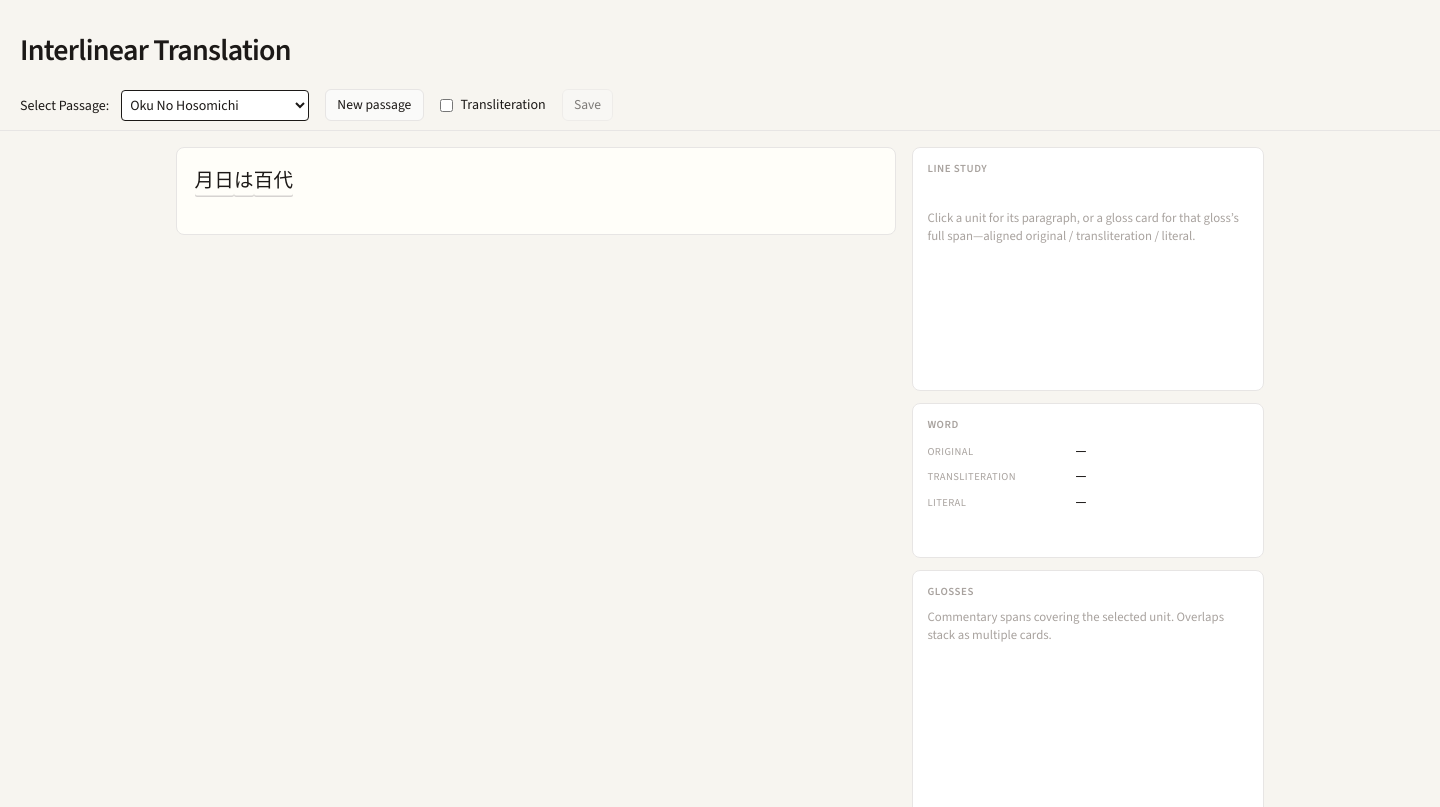
it: App component › disables Save until dirty, then writes the passage
This screenshot has width=1440, height=807.
expect the button "月日" is shown: met, box [195,164,234,197]
expect the button "Save" is disabled: met, box [562,89,613,121]
Click the button "百代" at (273, 181), box [254,164,293,197]
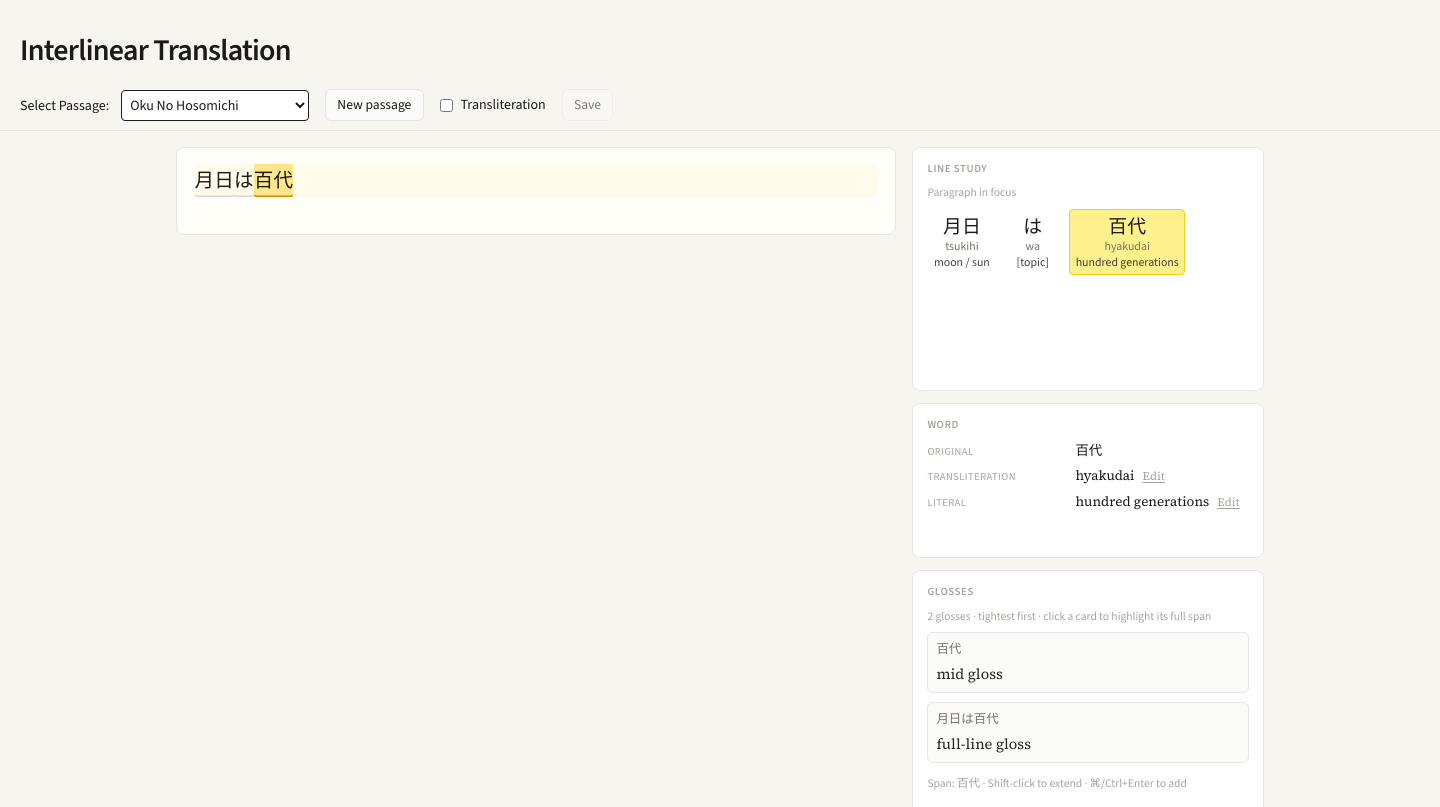
Click the text "mid gloss" at (970, 674), box [936,664,1003,684]
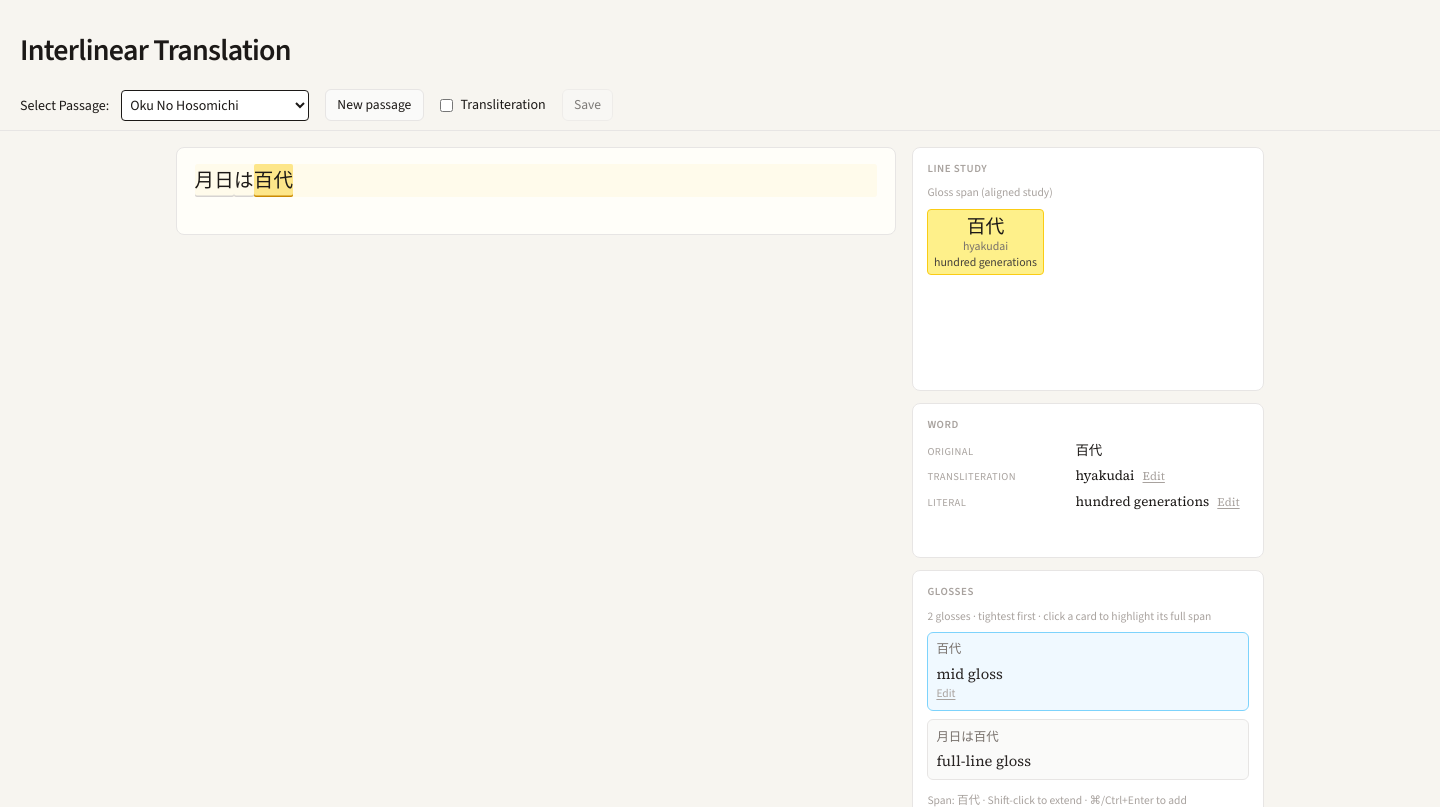
Click the button with class "field-edit-btn" below "mid gloss" at (946, 694), box [936,685,956,702]
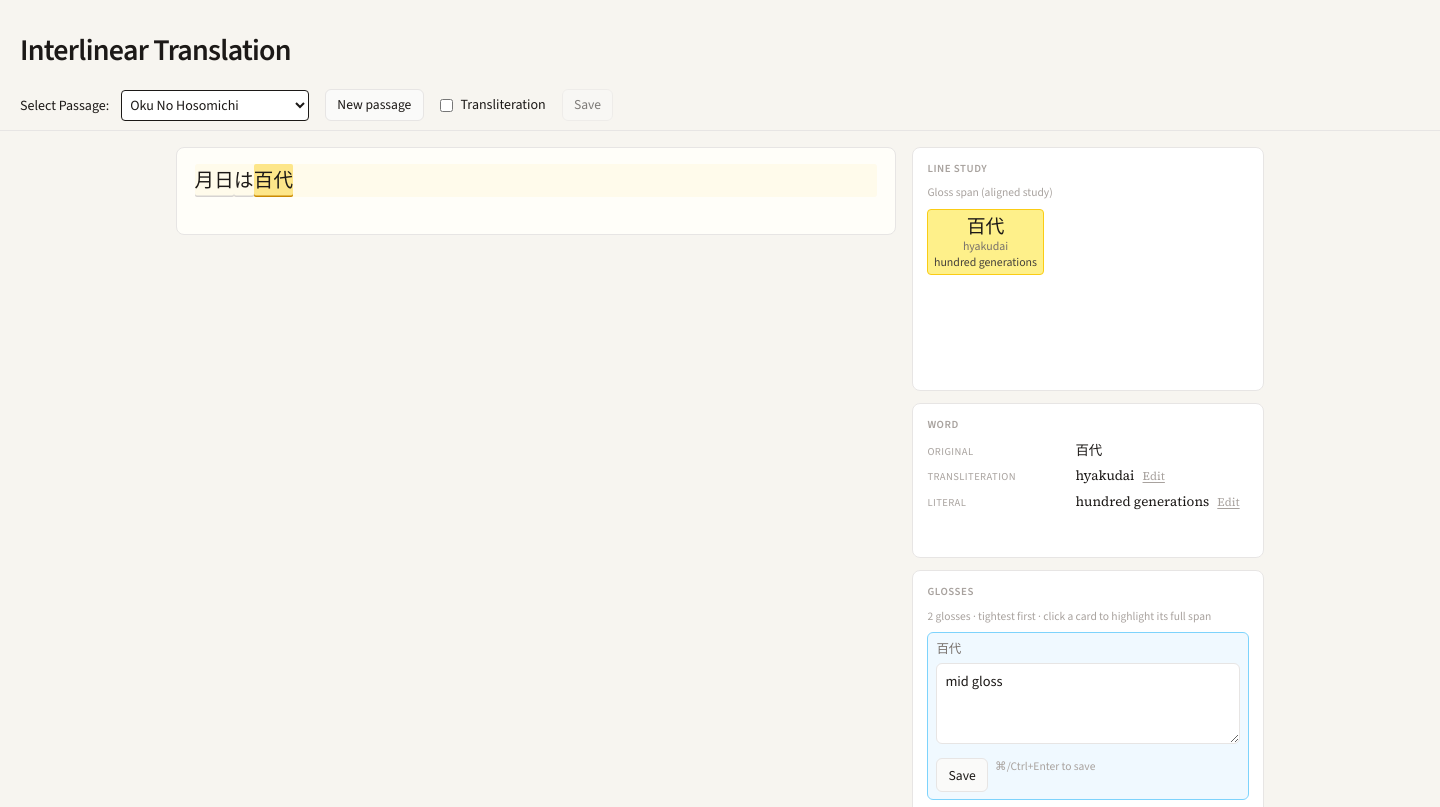
Replace the text in the text box named "Edit gloss commentary" with "persisted mid gloss" at (1088, 704), box [936,663,1240,744]
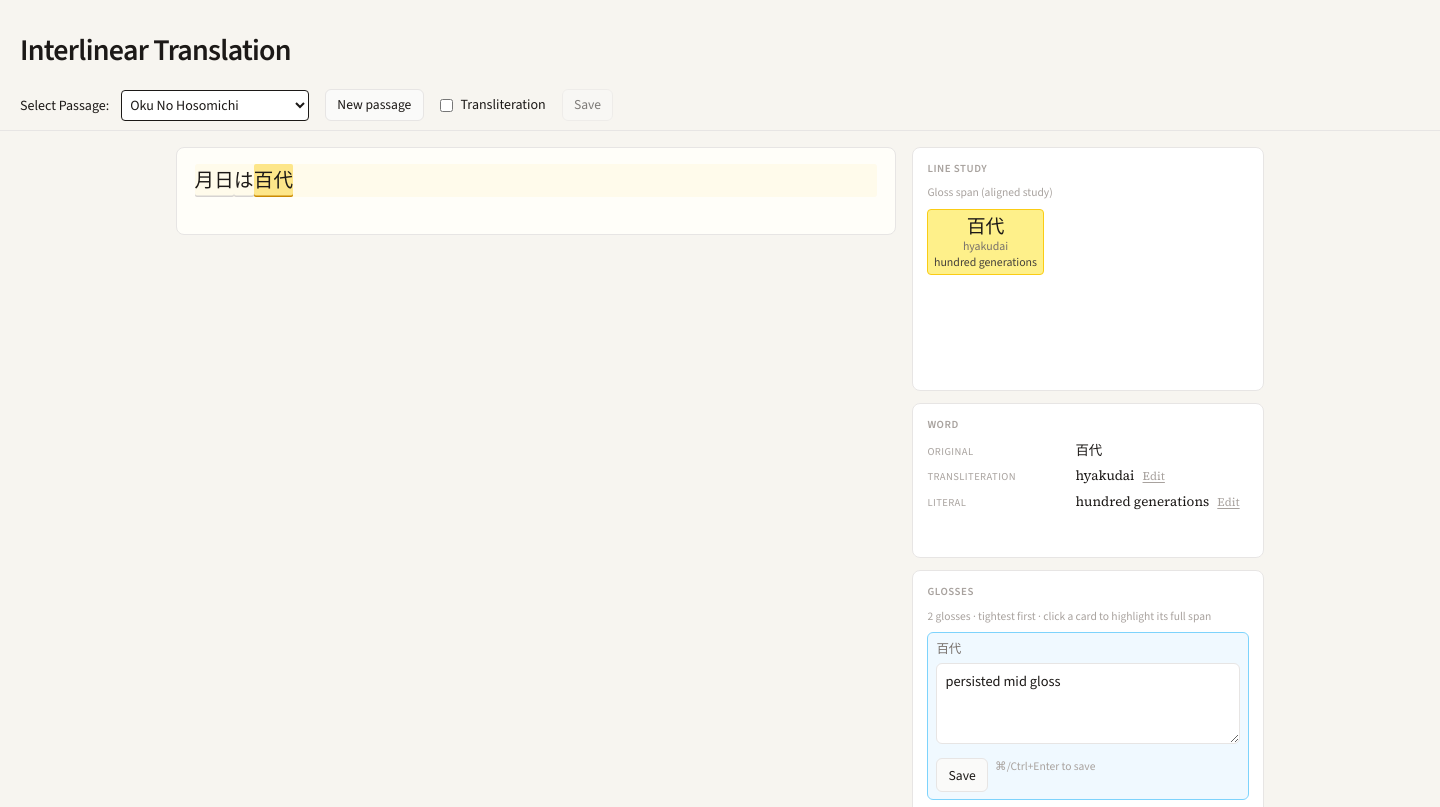
Click the button "Save" next to "⌘/Ctrl+Enter to save" at (962, 775), box [936,758,988,792]
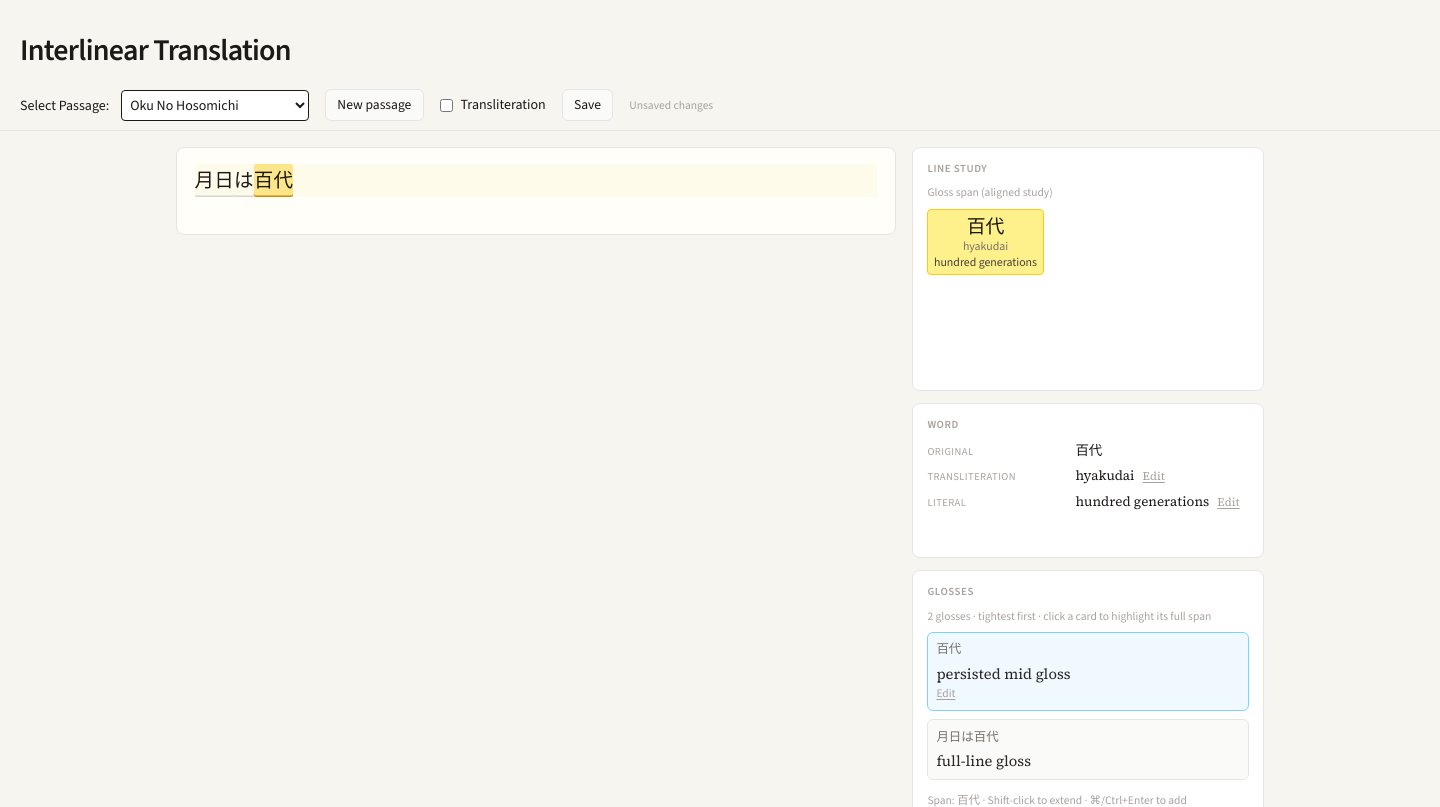
expect the button "Save" is enabled: met
expect the message reads "Unsaved changes": met, box [629,97,713,113]
Click the button "Save" at (588, 105), box [562,89,613,121]
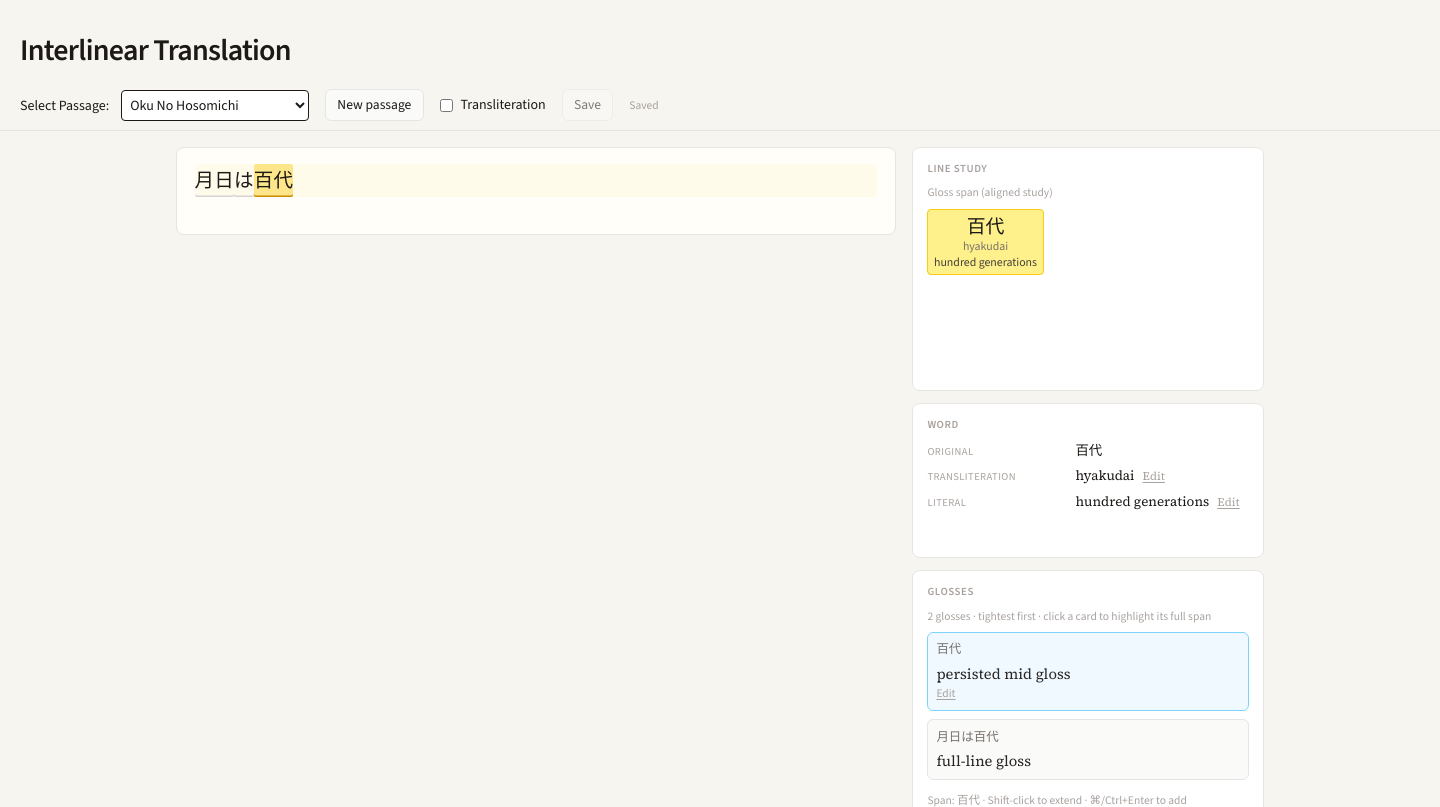
expect the message reads "Saved": met, box [629,97,659,113]
expect the button "Save" is disabled: met, box [562,89,613,121]
